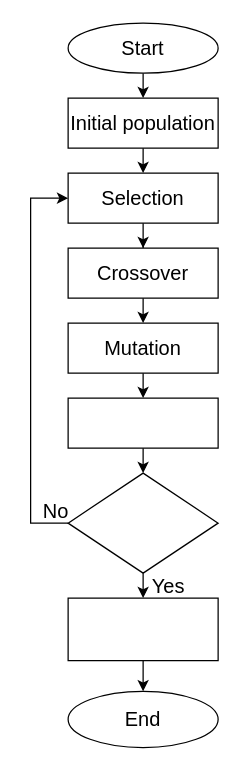
This 240x770 diagram has some shape labels left out. Here are the shapes that lost their labels. From the top down, the centre of each, then its label:
(x=142, y=422): Calculate fitness
(x=142, y=522): Converge criteria
(x=142, y=629): Select better individual
